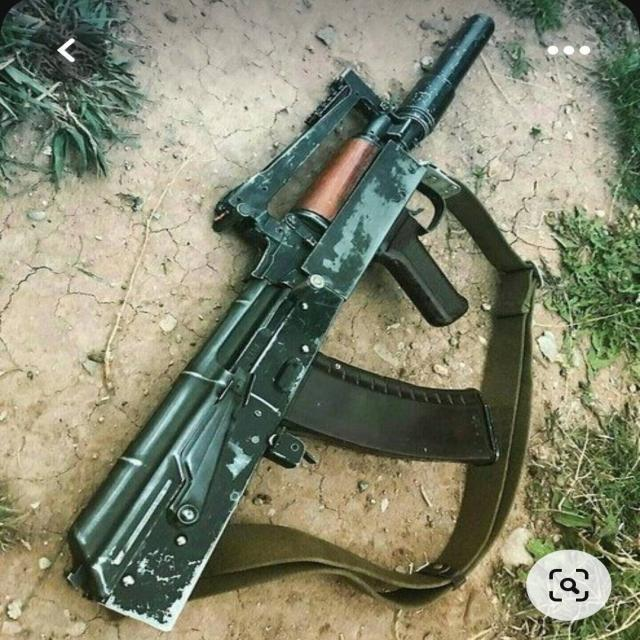m16: (241, 13, 484, 367)
